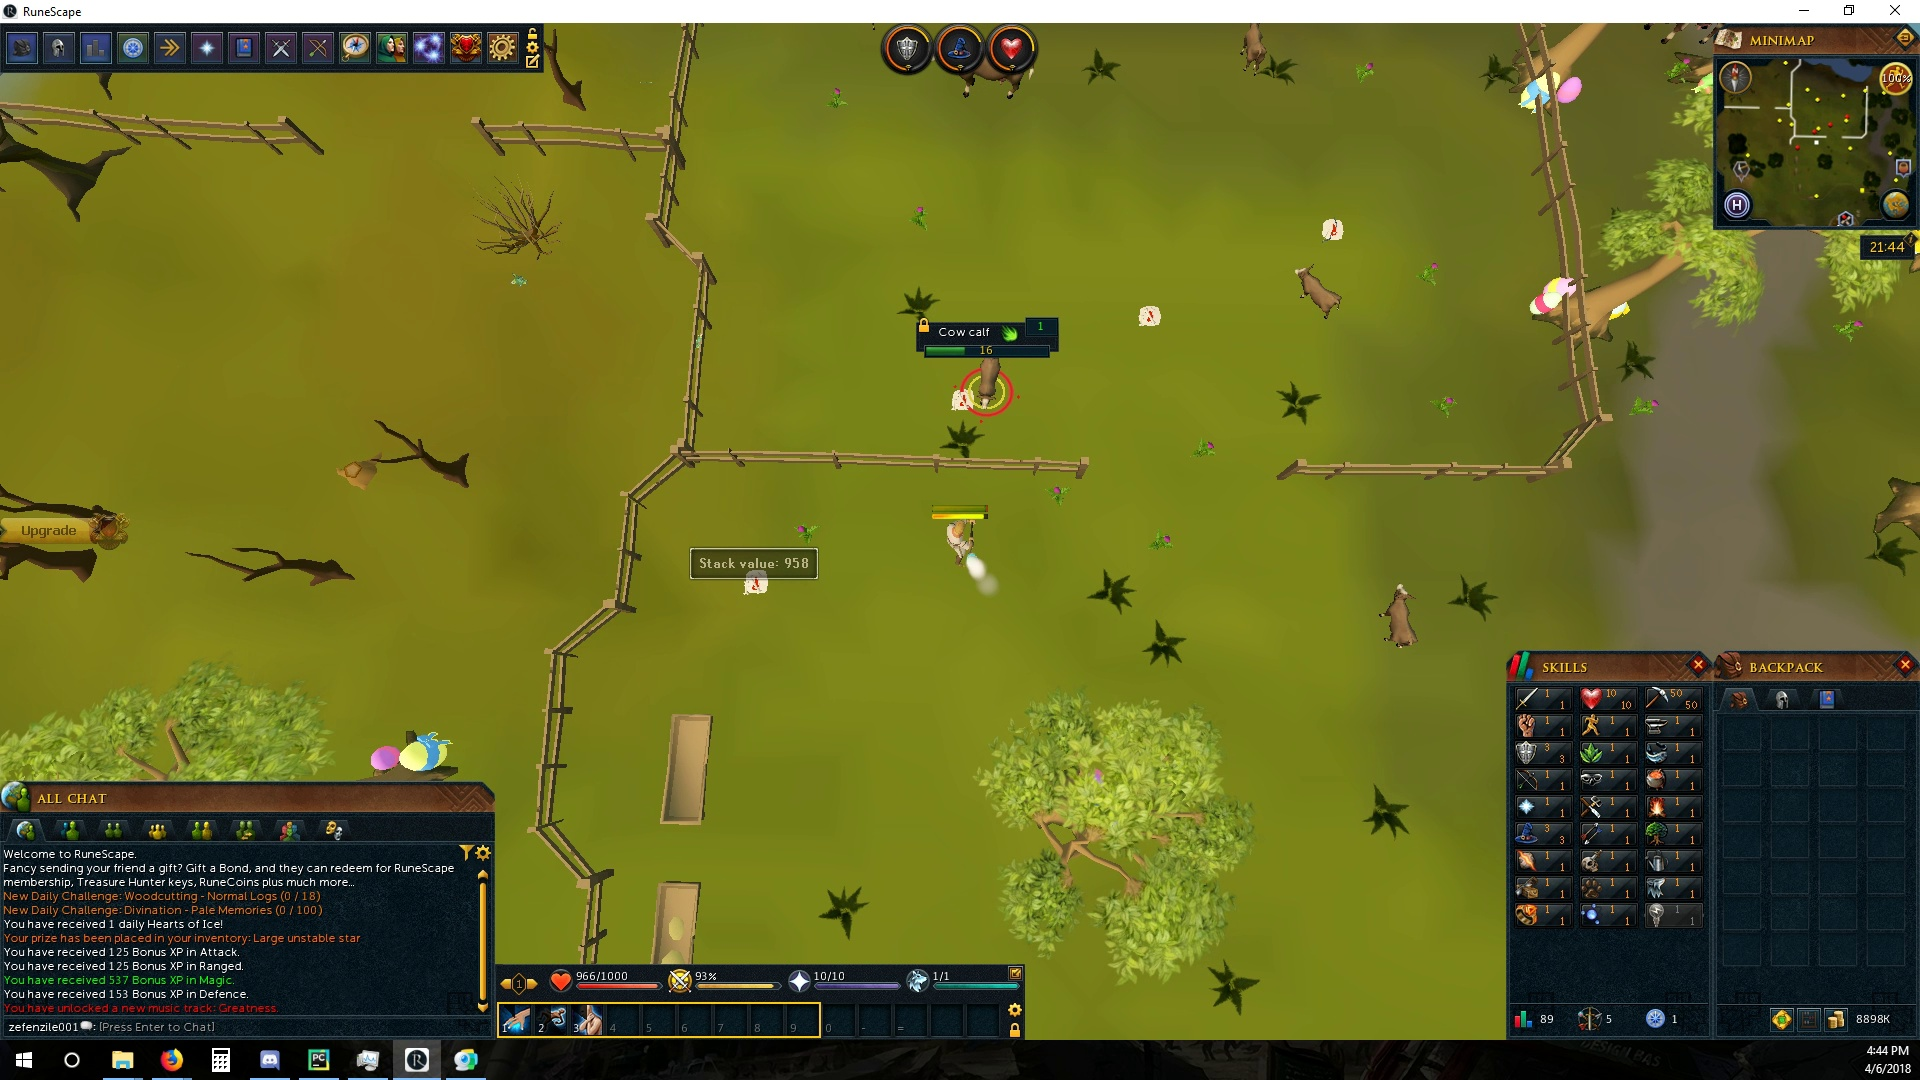calf: (1375, 582, 1418, 653), (1298, 264, 1344, 324), (1236, 22, 1269, 80), (973, 357, 1006, 410)
cow_drop: (738, 568, 775, 600), (1317, 214, 1345, 243), (947, 386, 976, 413), (1135, 305, 1166, 328)
